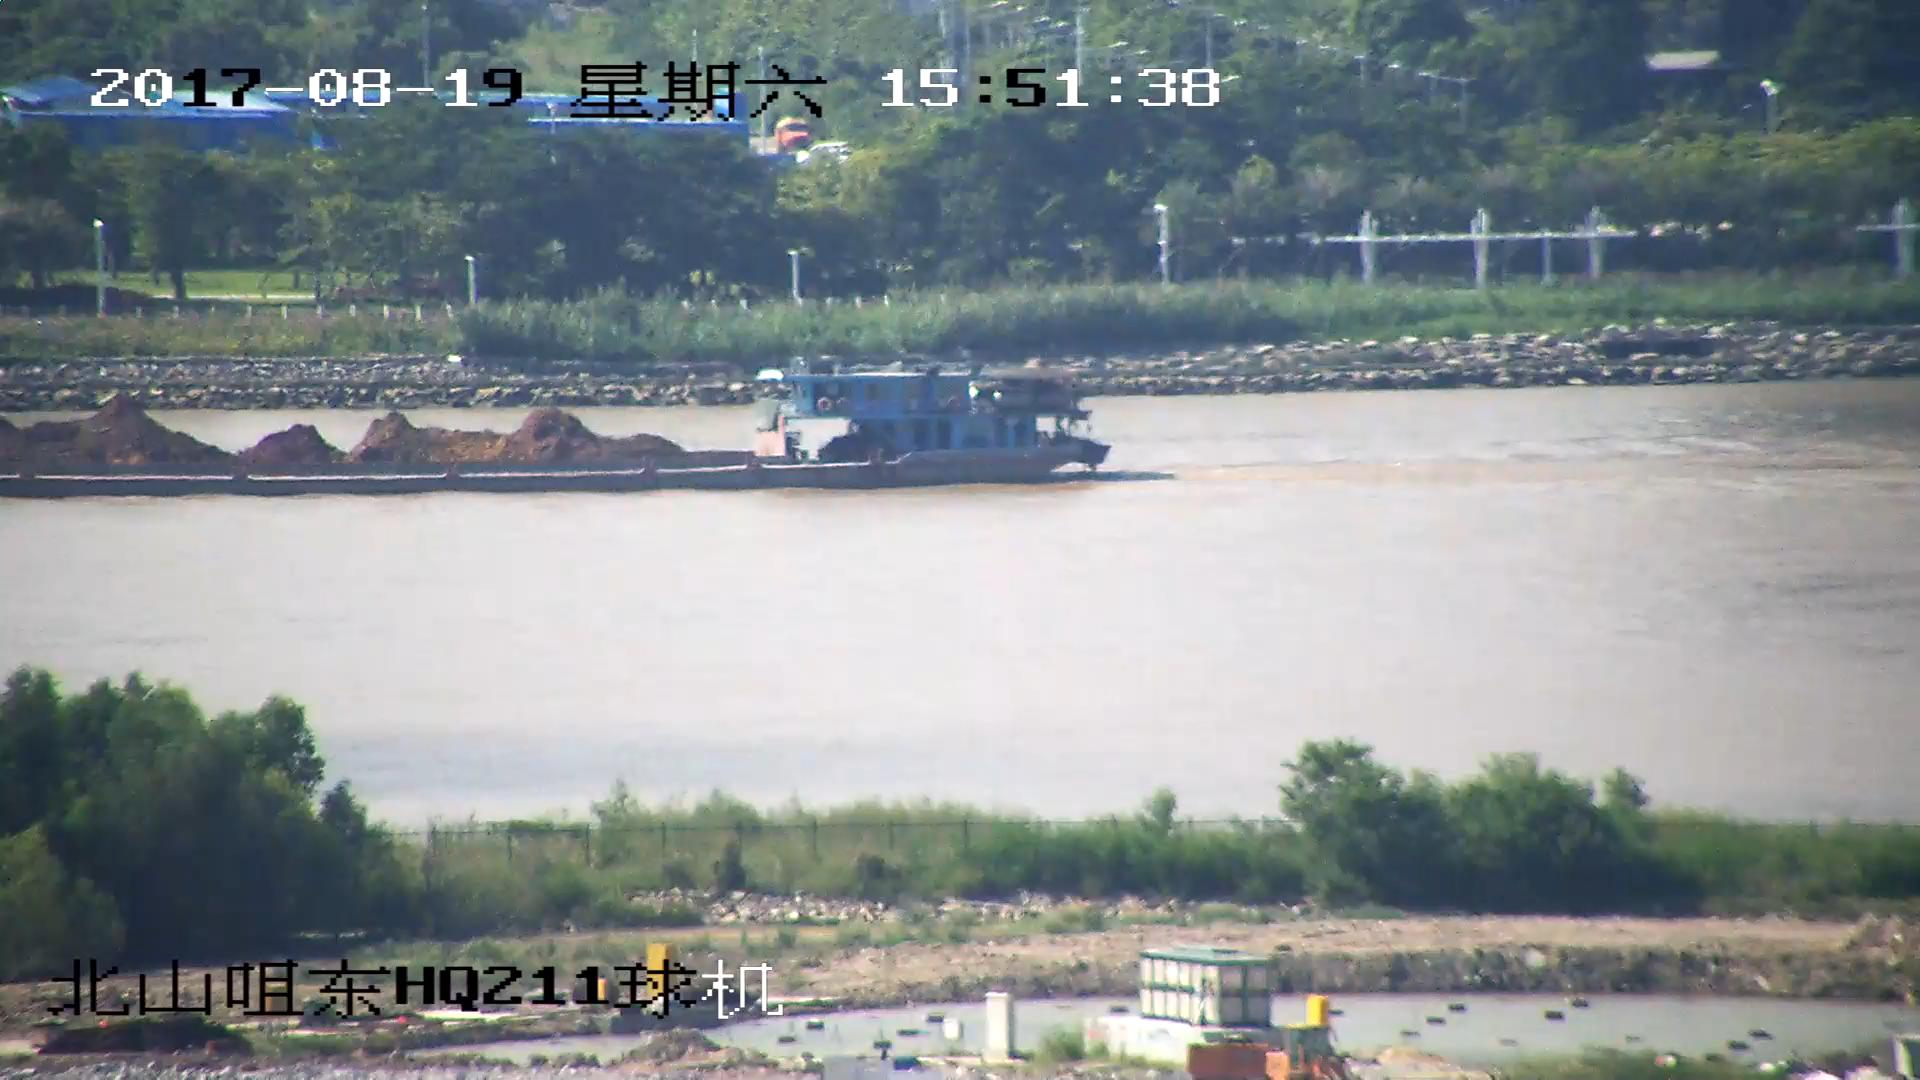ore carrier: (1, 348, 1112, 498)
